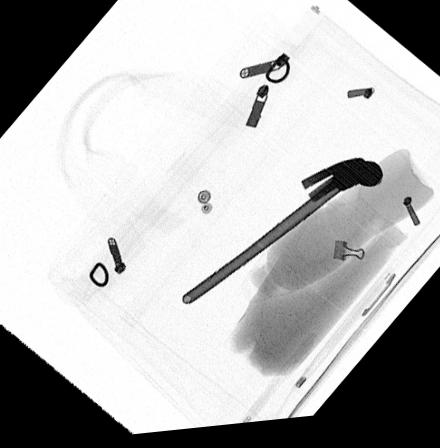Hammer: (181, 164, 383, 309)
